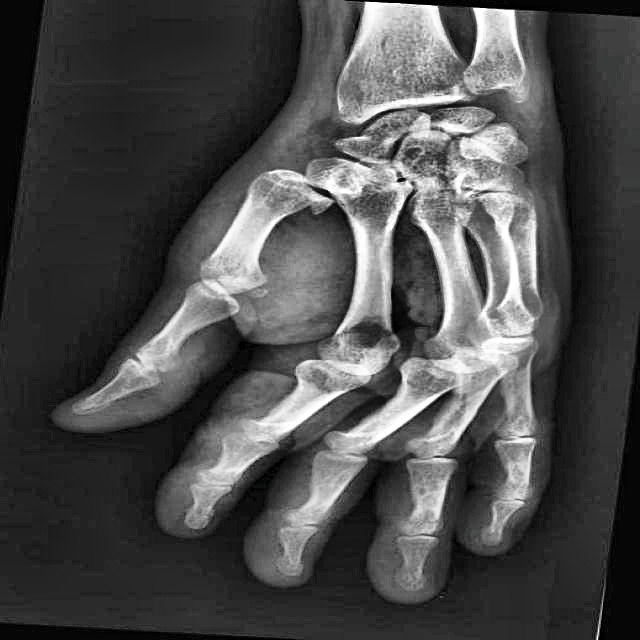Oblique Displaced: (405, 359, 508, 469)
